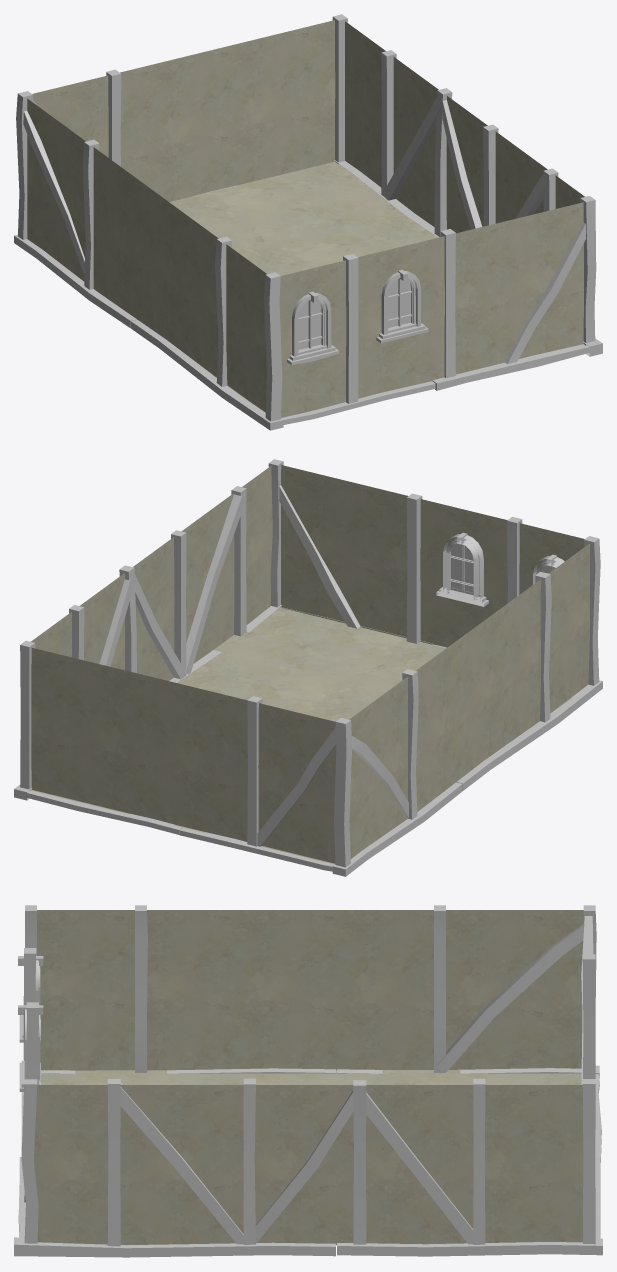
File: A_Large_BuildingBlock_B.fbx
3 renders of one model, top to bottom at view 1: azimuth 30°, elevation 25°; view 2: azimuth 150°, elevation 25°; view 3: azimuth 270°, elevation 25°, orthographic. The views are drawn at different scales.
Parts seen in each view (by area): view 1: A_Large_BuildingBlock_B, A_Large_BuildingBlock_B_KitPart; view 2: A_Large_BuildingBlock_B, A_Large_BuildingBlock_B_KitPart; view 3: A_Large_BuildingBlock_B, A_Large_BuildingBlock_B_KitPart.
Part boxes in pixels (left/top/right/bottom): A_Large_BuildingBlock_B: left=27, top=20, right=584, bottom=417; A_Large_BuildingBlock_B_KitPart: left=14, top=14, right=602, bottom=430; A_Large_BuildingBlock_B: left=31, top=465, right=589, bottom=864; A_Large_BuildingBlock_B_KitPart: left=14, top=459, right=602, bottom=876; A_Large_BuildingBlock_B: left=34, top=910, right=583, bottom=1245; A_Large_BuildingBlock_B_KitPart: left=14, top=905, right=602, bottom=1257.
Size of the model in its own units: 729 by 321 by 997.
